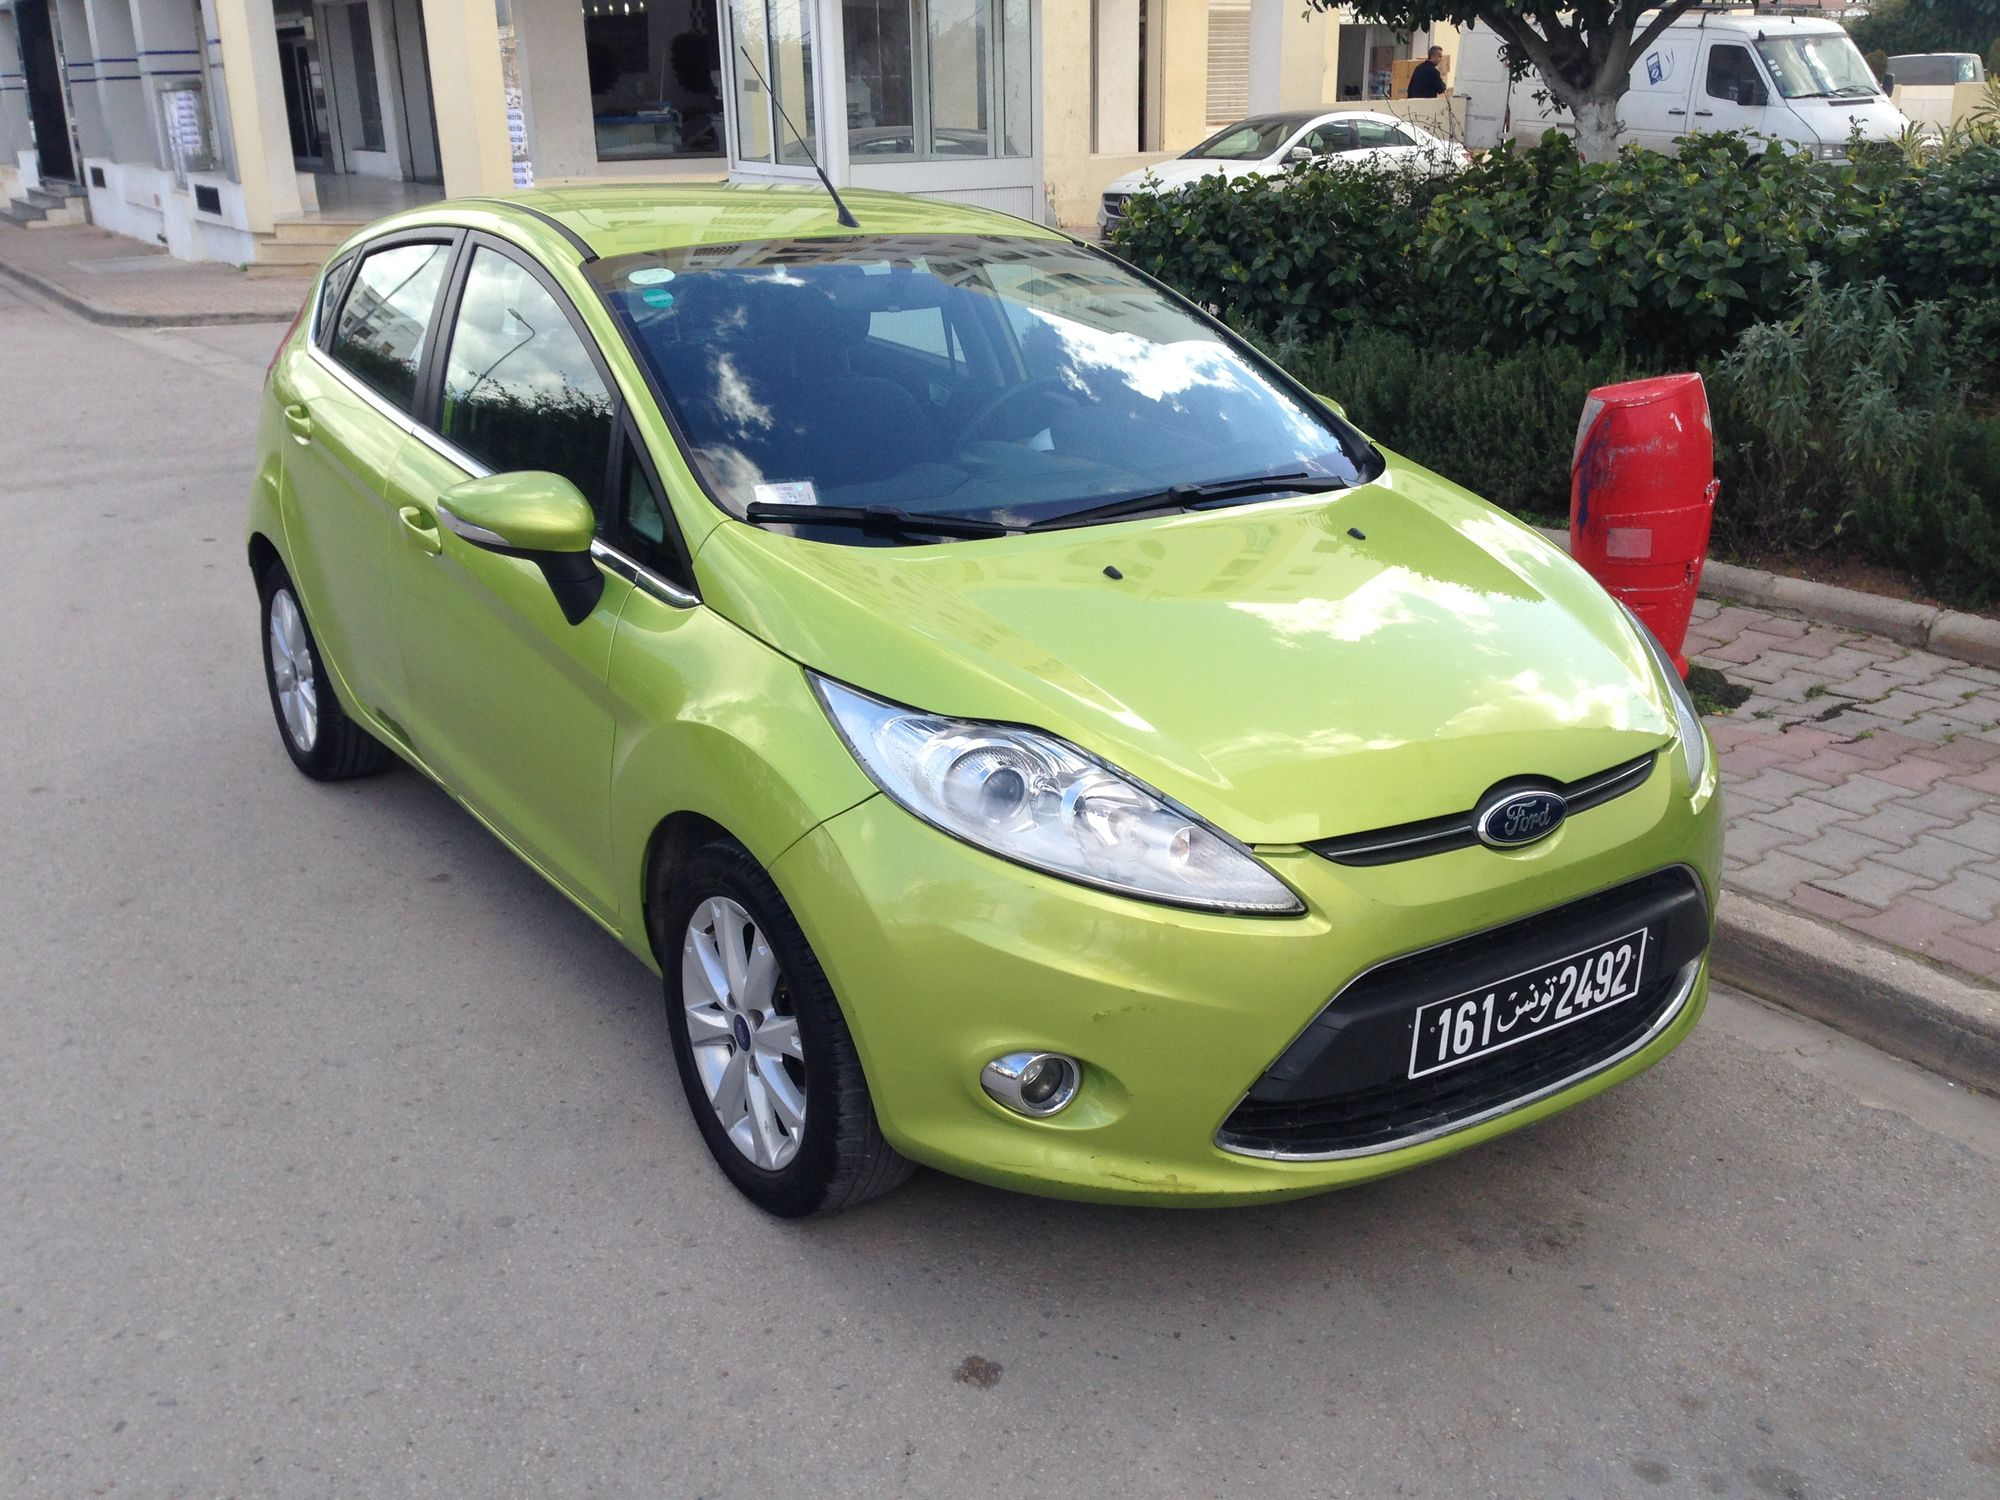LP: (1405, 927, 1641, 1082)
